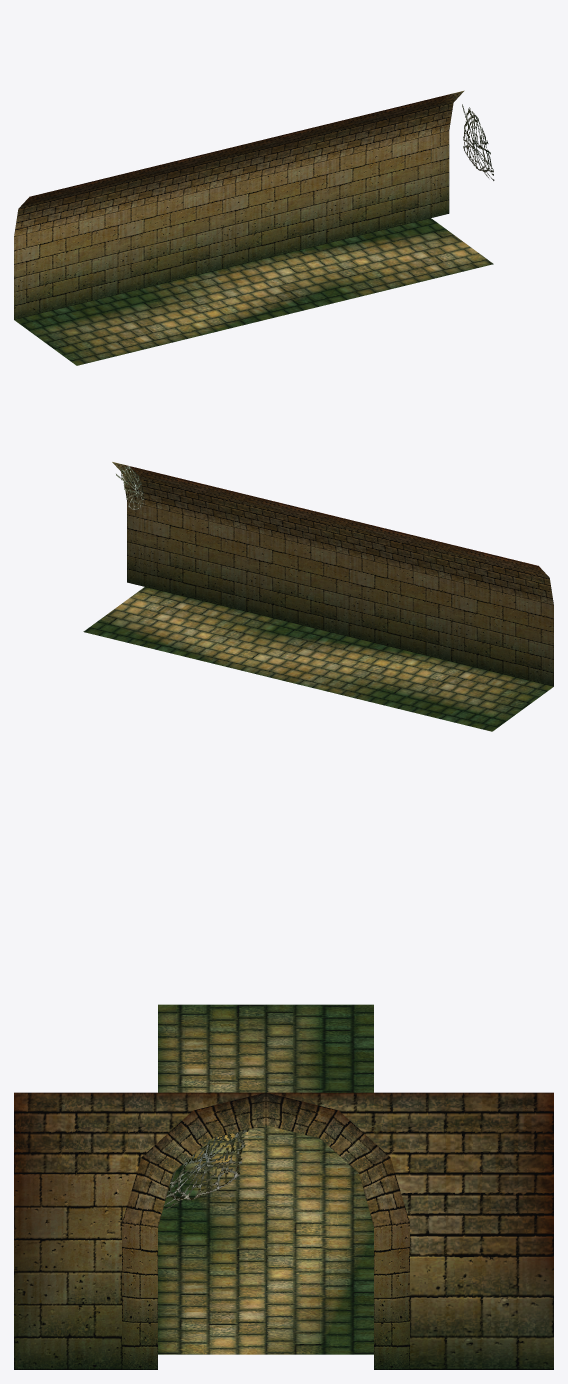
The model's file is Mission12_Catacomb01_A_1A.glb.
3 renders of one model, top to bottom at view 1: azimuth 30°, elevation 25°; view 2: azimuth 150°, elevation 25°; view 3: azimuth 270°, elevation 25°, orthographic. The views are drawn at different scales.
Visible parts, largest first — view 1: MISSION12_CATACOMB01_A_1A; view 2: MISSION12_CATACOMB01_A_1A; view 3: MISSION12_CATACOMB01_A_1A.
Boxes of the visible parts, box(x1,y1,x2,y2) form: MISSION12_CATACOMB01_A_1A: box(14, 90, 494, 365); MISSION12_CATACOMB01_A_1A: box(83, 462, 553, 731); MISSION12_CATACOMB01_A_1A: box(14, 1004, 553, 1369).
Bounding box in the file's own units: 12 × 4.25 × 7.5.
Materials: 4 (4 with a texture image).
